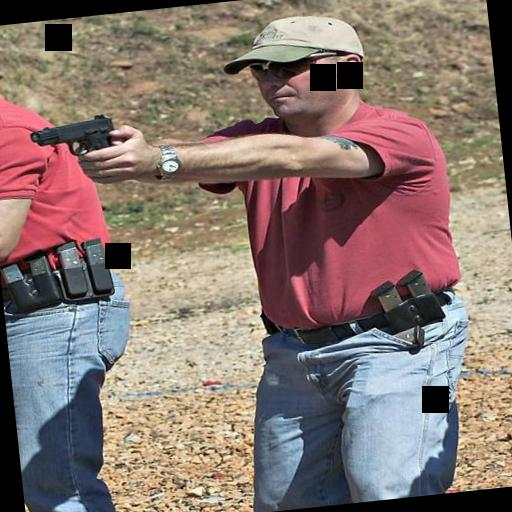Handgun: (22, 104, 121, 168)
